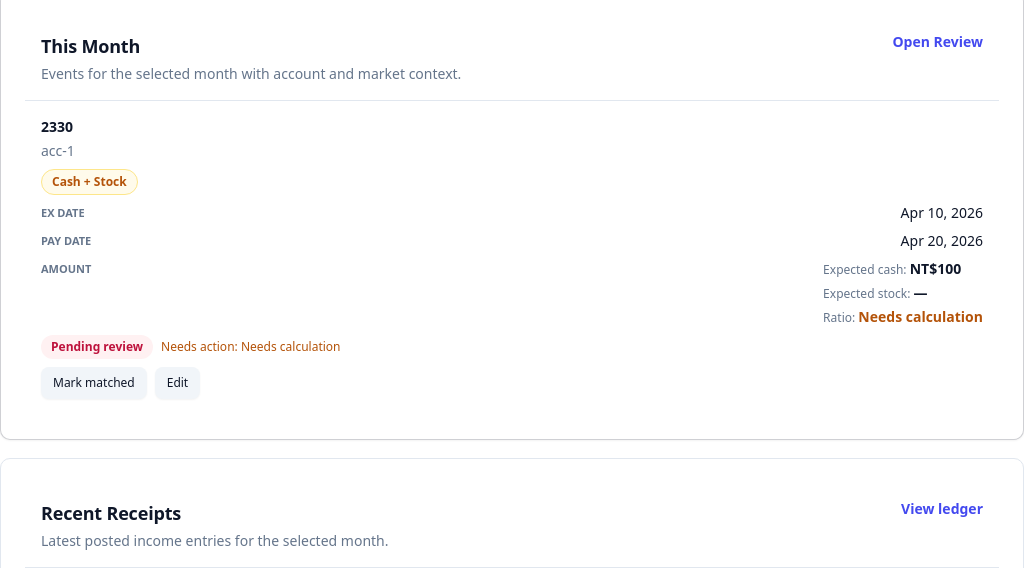
it: DividendCalendarClient › refreshes daily highlights once per SSE refresh and keeps drawer state in place
(page scrolled)
Click the button with test id "dividend-edit-event-open": (177, 382) [155,366,200,398]
(page scrolled)
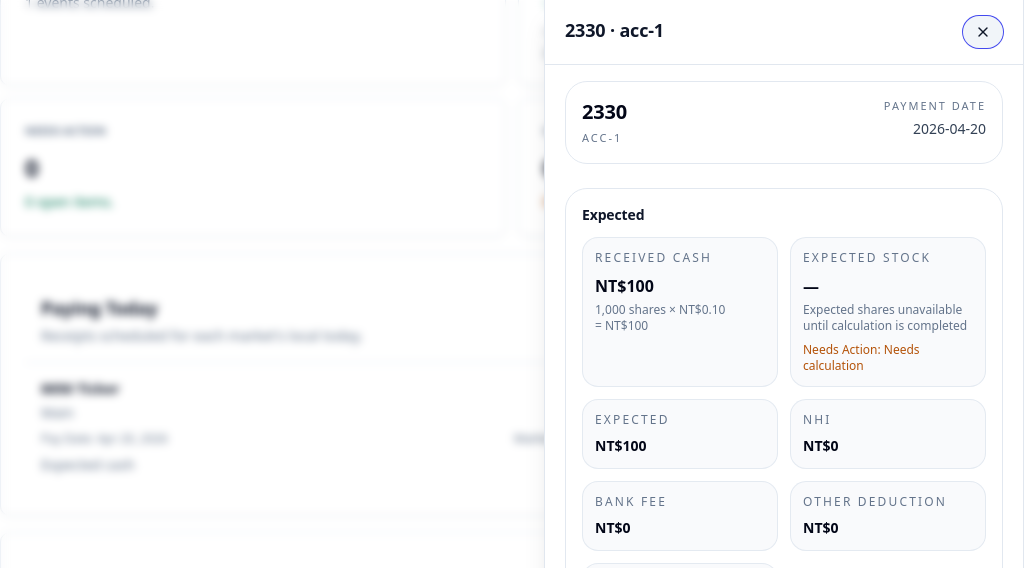
Check: the element with test id "dividends-paying-today" shows "0050", box [41,378,120,398]
